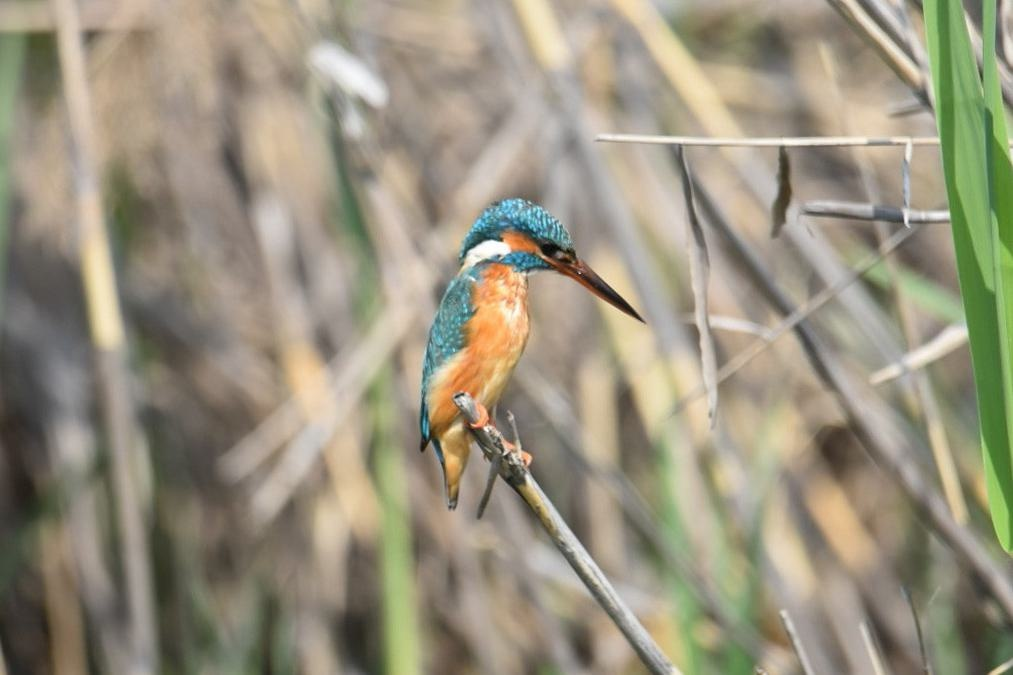kingfisher: (408, 164, 654, 545)
